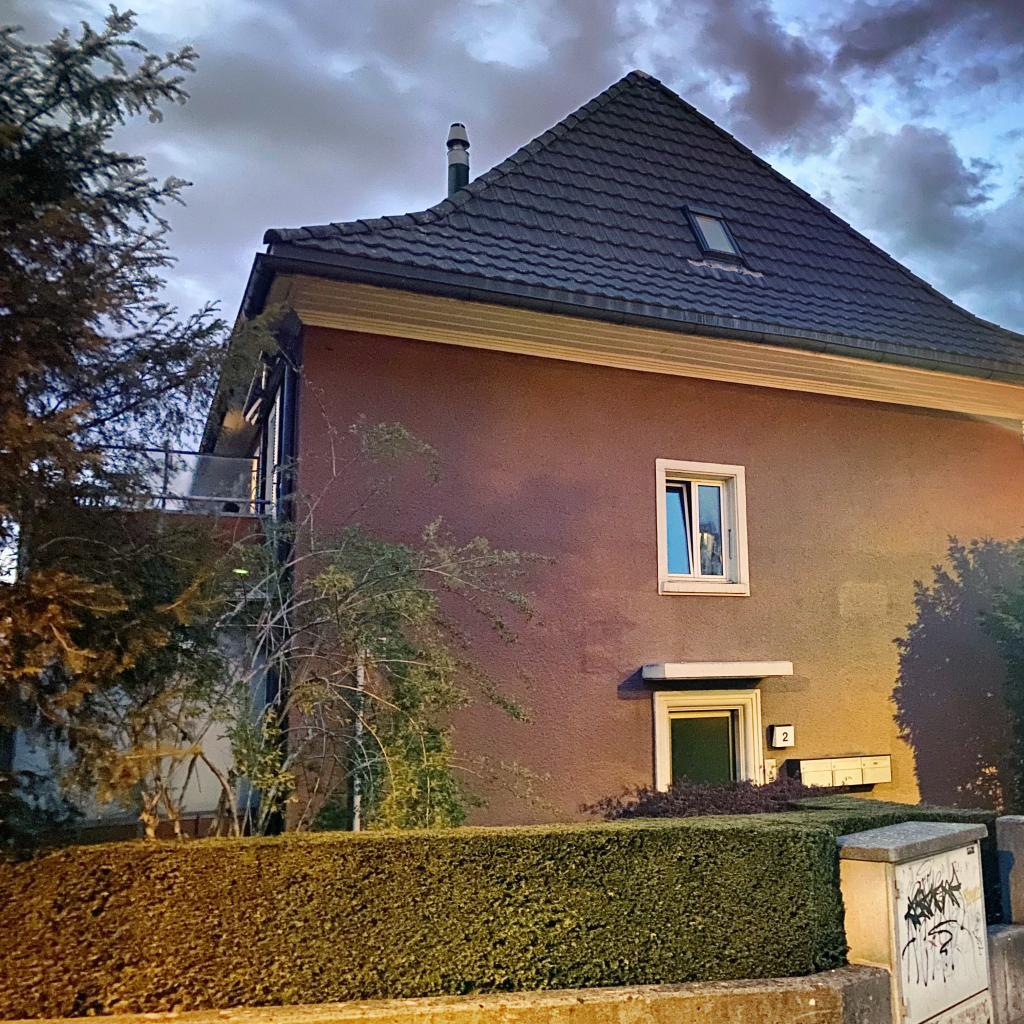balcony-fence: (36, 440, 278, 519)
facade: (0, 67, 1024, 836)
fence: (0, 813, 1024, 1024)
non-building-infrastructure: (785, 754, 893, 789)
window: (655, 458, 751, 597), (652, 688, 766, 792), (681, 203, 747, 266)
